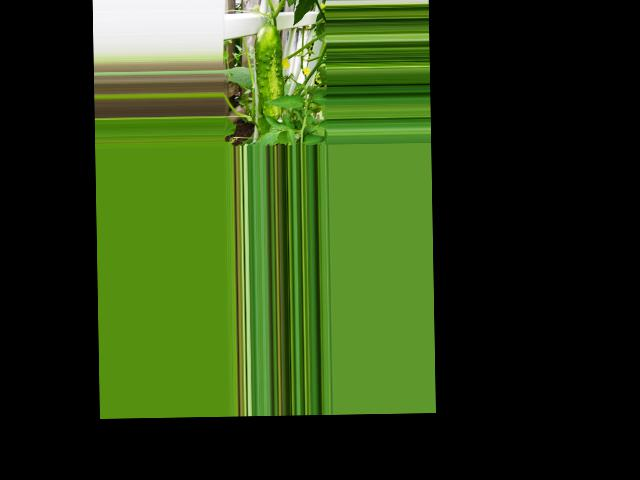cucumber: (254, 23, 283, 119)
